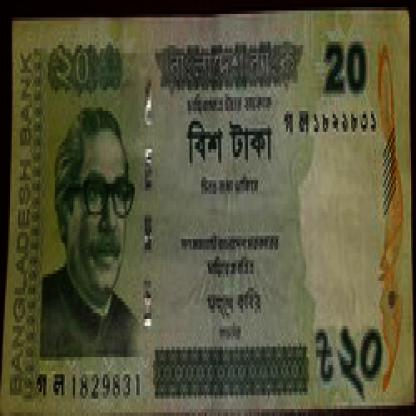Twenty: (303, 288, 404, 395), (312, 31, 384, 128), (38, 42, 128, 94)
